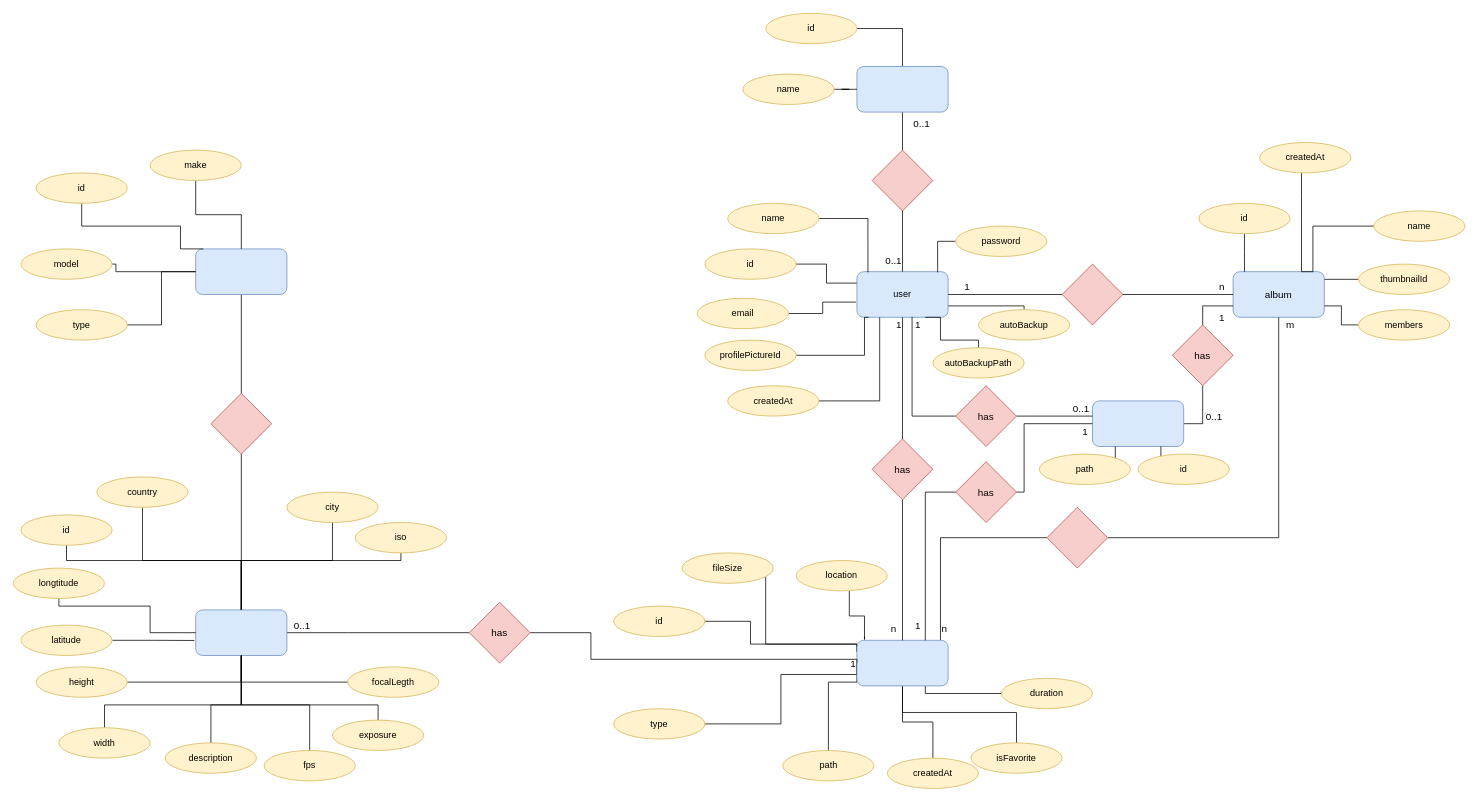
Some shapes in this 1478 by 802 pixel diagram are drawn without their labels. Here are the shapes that lost their labels. From the top down, the box of each, then its label:
(856, 66, 948, 112): person
(871, 149, 933, 211): is
(195, 248, 287, 294): device
(1061, 263, 1123, 325): owns
(1092, 400, 1184, 446): thumbnail
(1046, 507, 1108, 568): contains
(195, 609, 287, 656): exif
(856, 640, 948, 686): asset
